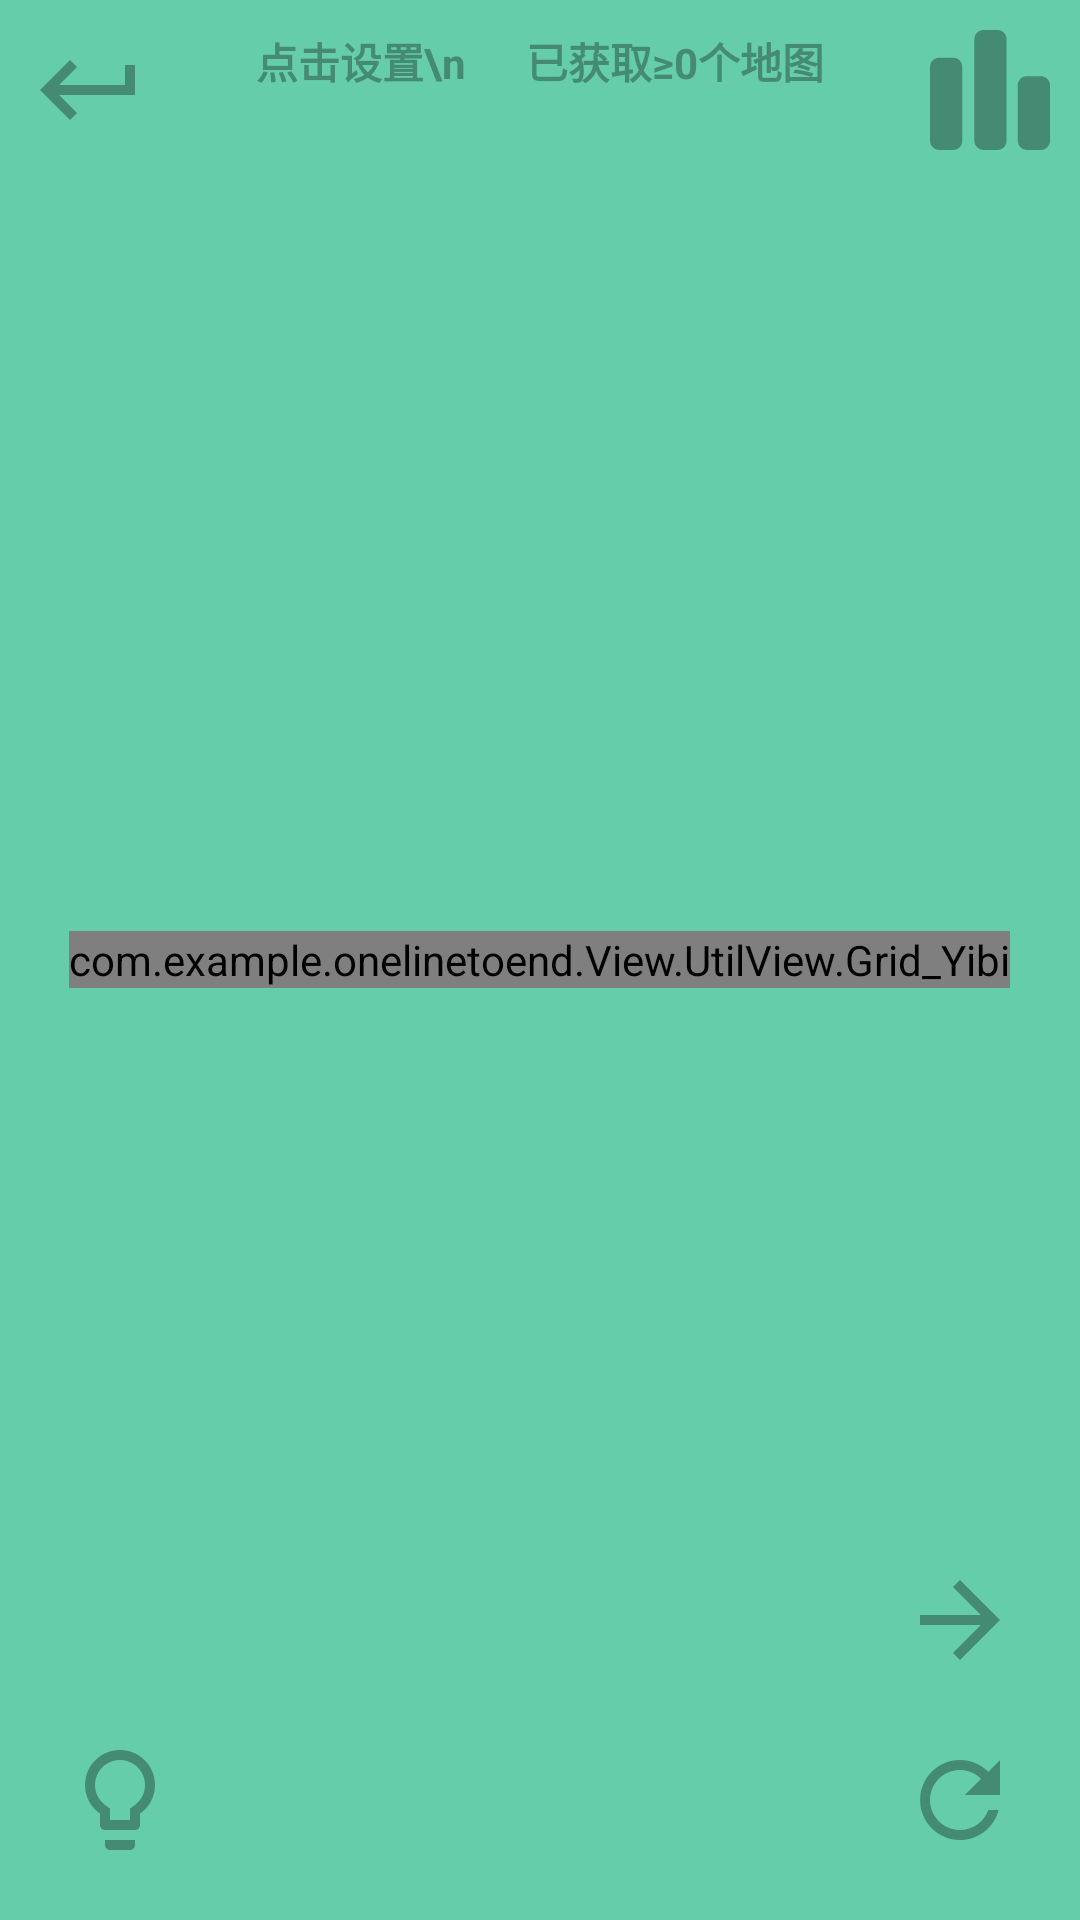

Icons on this 1080*1920 Android screen, each with its box as (x1, y1, x2, y2):
help: (85, 1750, 155, 1850)
refresh: (920, 1760, 1000, 1840)
return: (40, 60, 135, 120)
right: (920, 1580, 1000, 1660)
